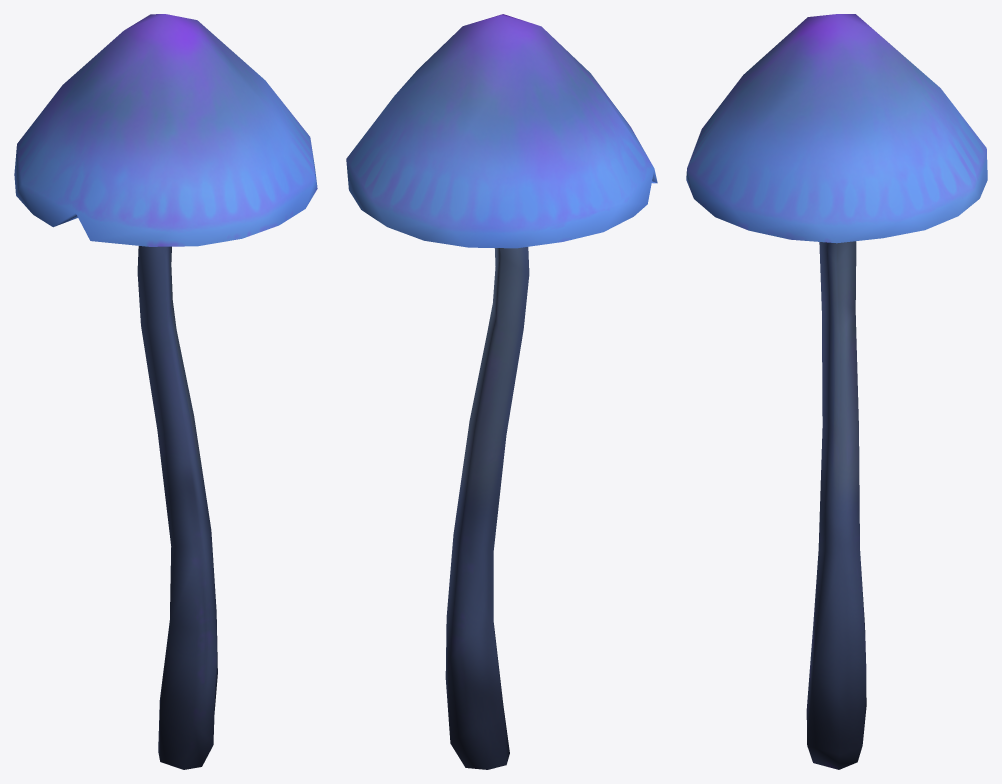
The model's file is SM_Potion_Props_Loot_Mushroom_01_A.fbx.
3 renders of one model, left to right at view 1: azimuth 30°, elevation 25°; view 2: azimuth 150°, elevation 25°; view 3: azimuth 270°, elevation 25°, orthographic.
Parts seen in each view (by area): view 1: SM_Potion_Props_Loot_Mushroom_01_A_LOD0; view 2: SM_Potion_Props_Loot_Mushroom_01_A_LOD0; view 3: SM_Potion_Props_Loot_Mushroom_01_A_LOD0.
Part boxes in pixels (x1,y1,x2,y2): SM_Potion_Props_Loot_Mushroom_01_A_LOD0: (14, 14, 317, 769); SM_Potion_Props_Loot_Mushroom_01_A_LOD0: (346, 14, 657, 769); SM_Potion_Props_Loot_Mushroom_01_A_LOD0: (686, 14, 987, 769).
Size of what is drawn, in the model's own units: 4.45 by 12.05 by 4.46.
